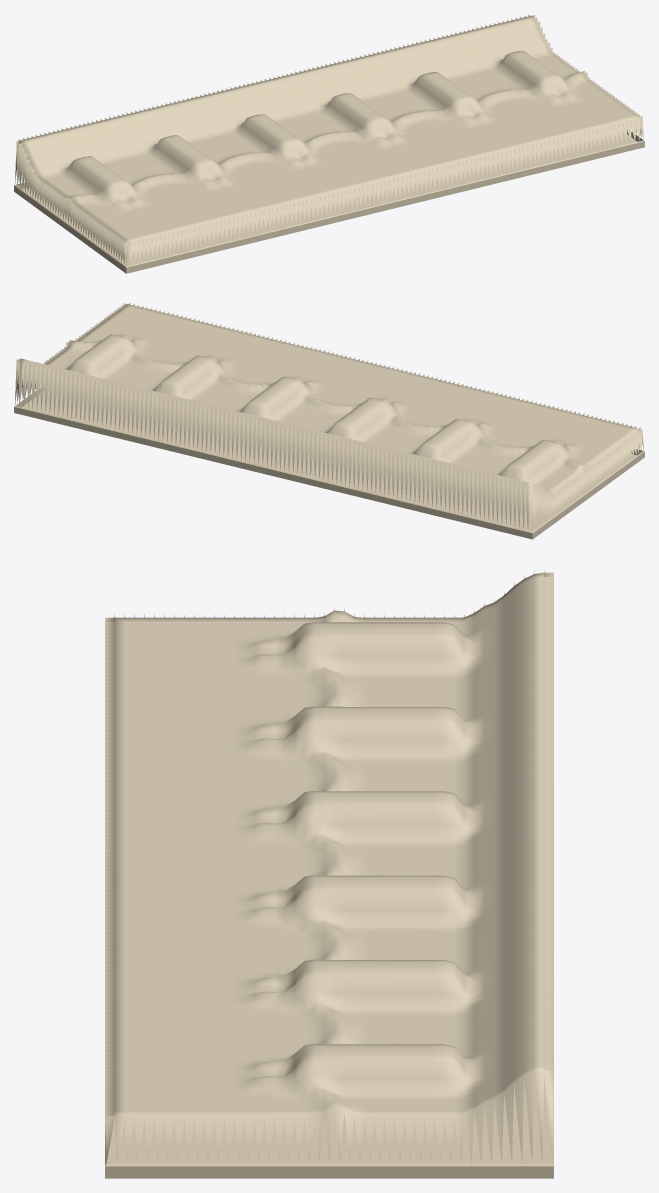
File: mahsulot.glb
3 views of the same model, one above another, from view 1: azimuth 30°, elevation 25°; view 2: azimuth 150°, elevation 25°; view 3: azimuth 270°, elevation 25° (orthographic). The views are drawn at different scales.
Parts seen in each view (by area): view 1: mahsulot; view 2: mahsulot; view 3: mahsulot.
Part boxes in pixels (x1=…): mahsulot: x1=14, y1=14, x2=644, y2=273; mahsulot: x1=14, y1=302, x2=644, y2=539; mahsulot: x1=105, y1=569, x2=553, y2=1178.
Bounding box in the file's own units: 1.2 × 0.1151 × 0.45.
